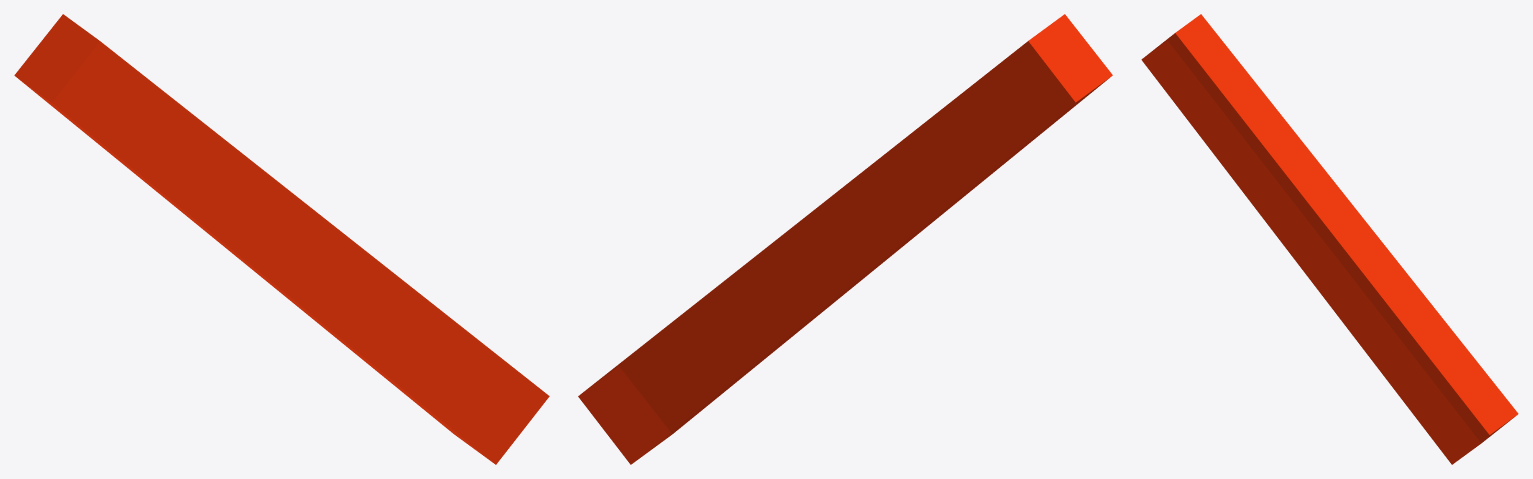
Rendered from Event_420604493_EBrechit_19.fbx.
3 renders of one model, left to right at view 1: azimuth 30°, elevation 25°; view 2: azimuth 150°, elevation 25°; view 3: azimuth 330°, elevation 25°, orthographic. The views are drawn at different scales.
Visible parts, largest first — view 1: Model; view 2: Model; view 3: Model.
Boxes of the visible parts, <box> form: Model: <box>14,14,549,464</box>; Model: <box>578,14,1112,464</box>; Model: <box>1141,14,1518,464</box>.
Bounding box in the file's own units: 0.4294 × 0.4289 × 0.0628.
